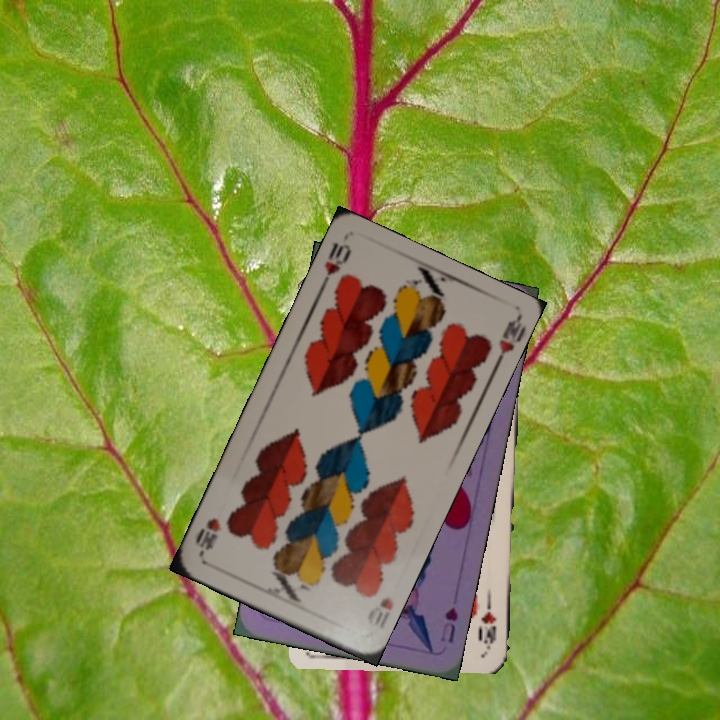H10: (317, 238, 354, 292), (363, 592, 396, 631), (479, 591, 499, 650)
HU: (436, 602, 461, 646)
